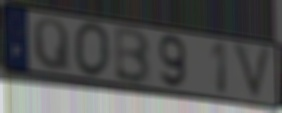1: (209, 39, 227, 96)
9: (158, 34, 188, 90)
B: (114, 25, 153, 87)
O: (72, 20, 112, 80)
Q: (31, 16, 73, 75)
V: (230, 40, 275, 106)
